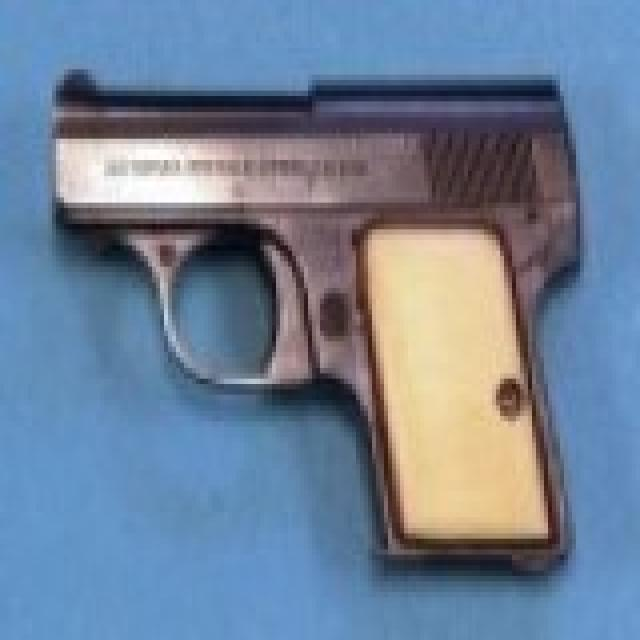Gun: (44, 47, 580, 569)
